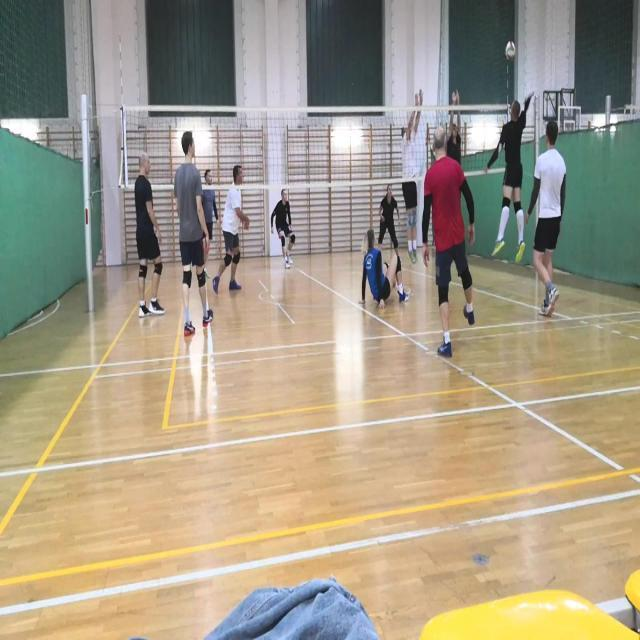volleyball: (504, 41, 516, 61)
